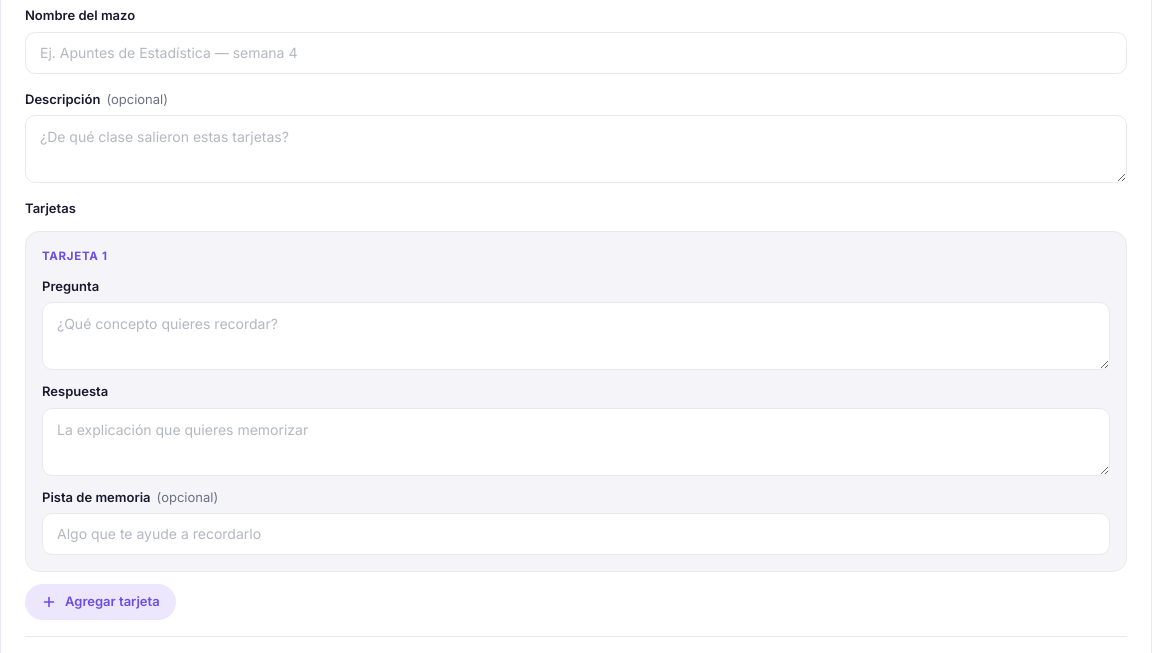
Test: tarjetas del formulario › quitar una tarjeta la elimina del formulario
(page scrolled)
Step 1. Click the button "Agregar tarjeta" → click(100, 602), box [25,584,176,620]
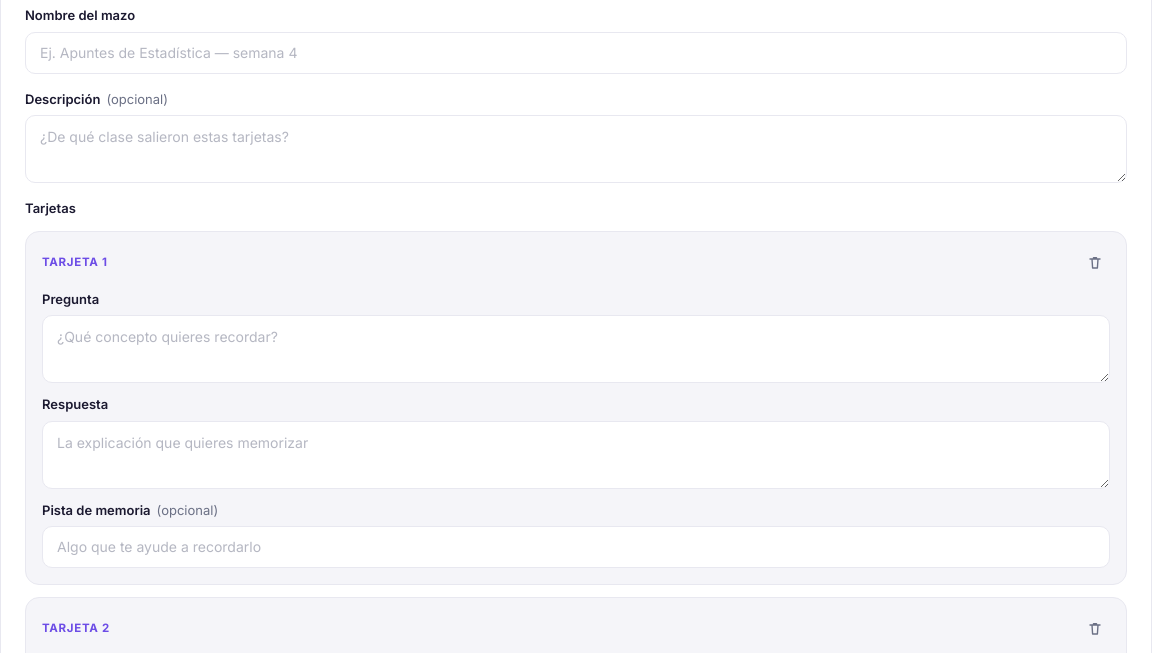
Step 2. Click the button named "Quitar tarjeta 2" → click(1095, 629), box [1080,614,1110,644]
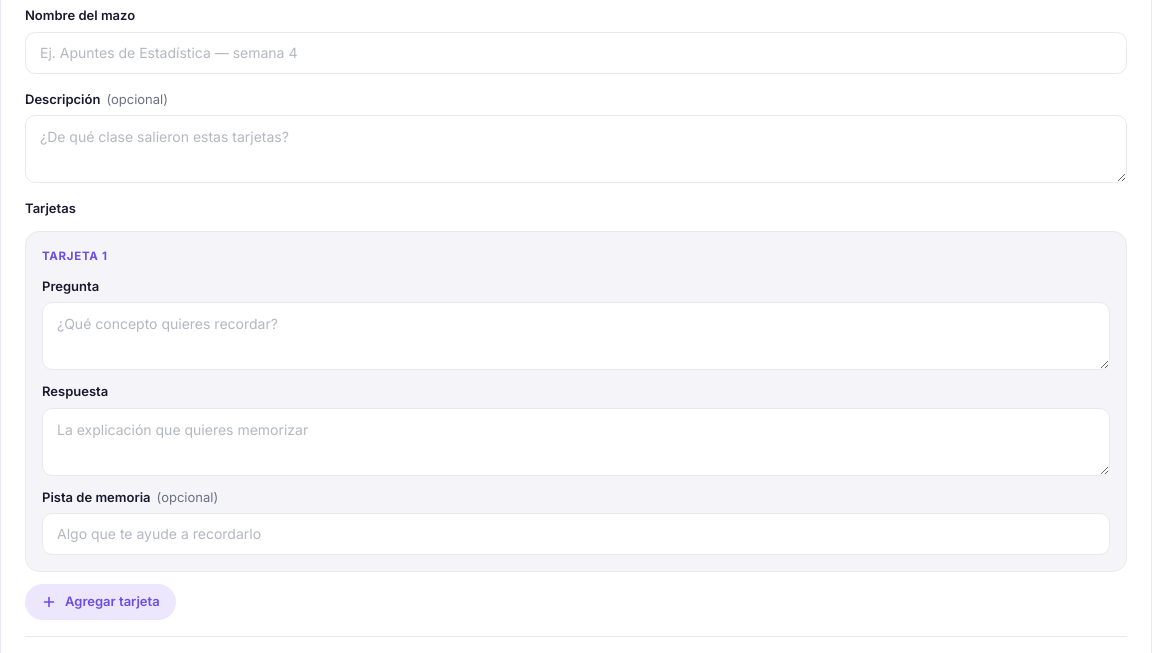
expect the number of text boxes labelled "Pregunta" is 1: met, box [42,302,1110,370]
